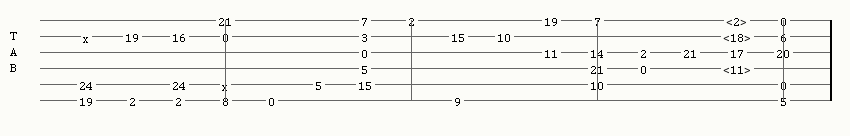0: (222, 30, 233, 42), (268, 94, 279, 106), (361, 46, 372, 58), (640, 62, 651, 74), (780, 14, 791, 26), (780, 78, 791, 90)
10: (497, 30, 515, 42), (590, 78, 608, 90)
11: (544, 46, 562, 58)
14: (590, 46, 608, 58)
15: (358, 78, 376, 90), (451, 30, 469, 42)
16: (172, 30, 190, 42)
17: (730, 46, 748, 58)
19: (79, 94, 97, 106), (125, 30, 143, 42), (544, 14, 562, 26)
2: (129, 94, 140, 106), (175, 94, 186, 106), (408, 14, 419, 26), (640, 46, 651, 58)
20: (776, 46, 794, 58)
21: (218, 14, 236, 26), (590, 62, 608, 74), (683, 46, 701, 58)
24: (79, 78, 97, 90), (172, 78, 190, 90)
3: (361, 30, 372, 42)
5: (315, 78, 326, 90), (361, 62, 372, 74), (780, 94, 791, 106)
6: (780, 30, 791, 42)
7: (361, 14, 372, 26), (594, 14, 605, 26)
8: (222, 94, 233, 106)
9: (454, 94, 465, 106)
harmonic: (723, 62, 755, 74), (723, 30, 755, 42), (726, 14, 751, 26)
x: (83, 31, 93, 41), (222, 79, 232, 89)
